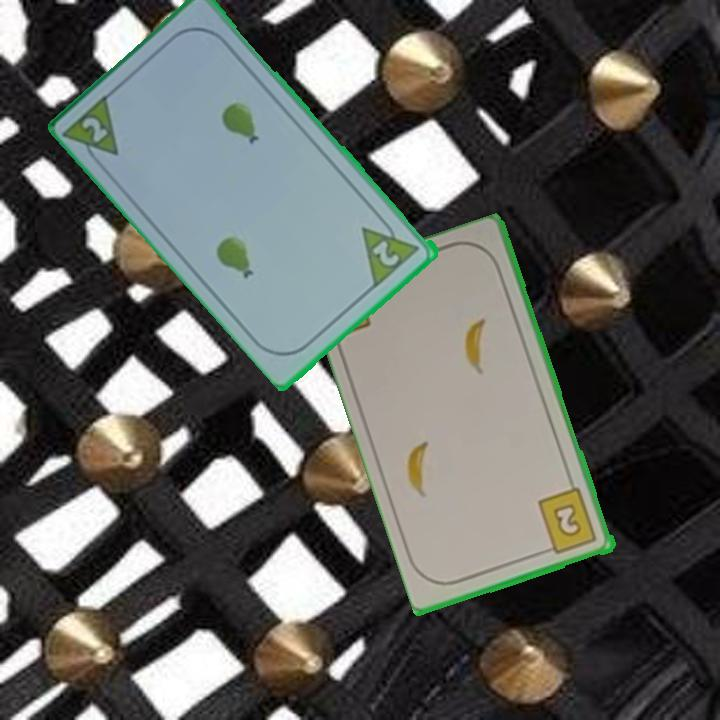2b: (534, 485, 600, 557)
2p: (61, 89, 123, 173), (369, 236, 403, 270)
